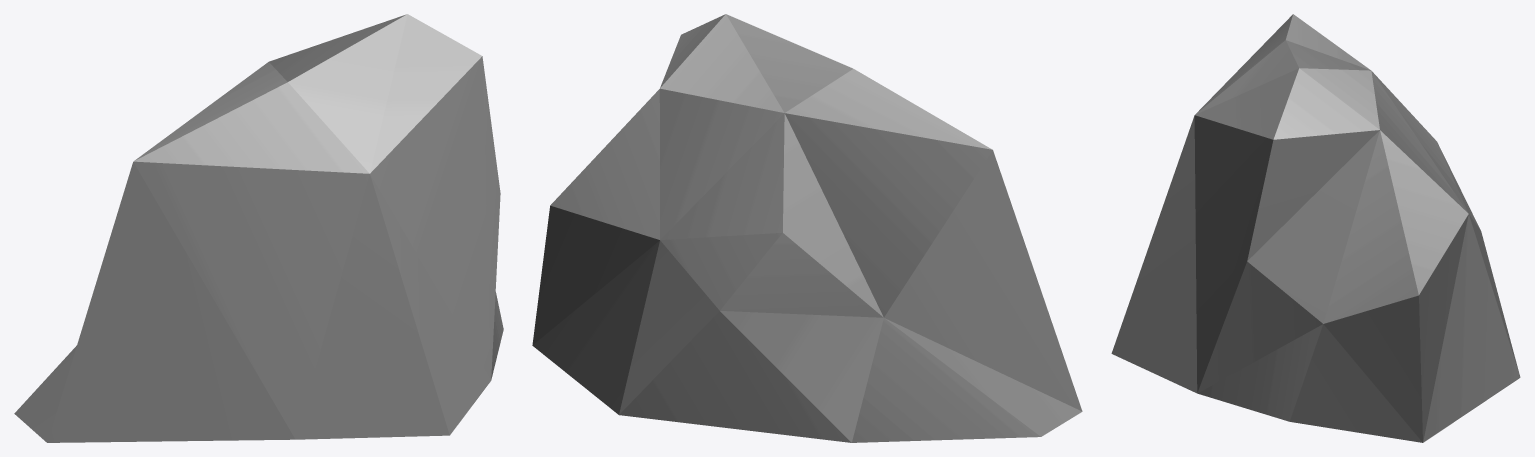
File: GL-Rock-08-LOD3.fbx
The picture shows the model from 3 angles, left to right: view 1: azimuth 30°, elevation 25°; view 2: azimuth 150°, elevation 25°; view 3: azimuth 270°, elevation 25°; orthographic projection. The views are drawn at different scales.
Parts seen in each view (by area): view 1: GL_Rock_08; view 2: GL_Rock_08; view 3: GL_Rock_08.
Part boxes in pixels (bbox=[...]): GL_Rock_08: bbox=[14, 14, 503, 442]; GL_Rock_08: bbox=[532, 14, 1082, 442]; GL_Rock_08: bbox=[1111, 14, 1520, 442].
Size of the model in its own units: 9.94 by 6.28 by 7.46.
